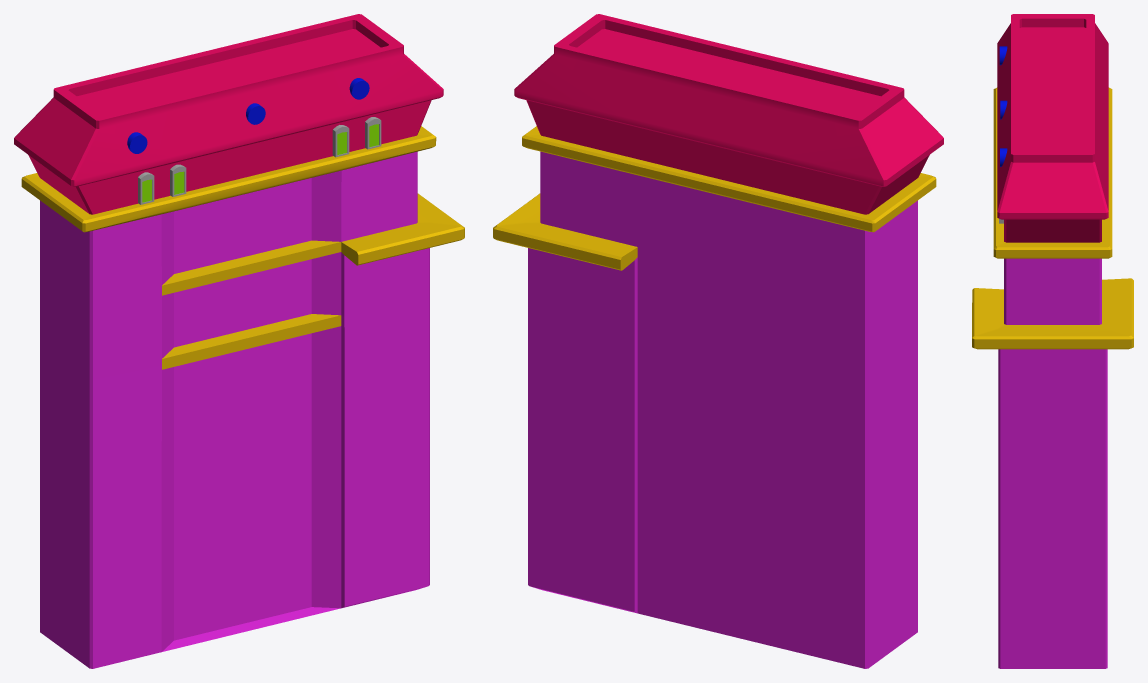
Rendered from LuigisMansion.fbx.
3 renders of one model, left to right at view 1: azimuth 30°, elevation 25°; view 2: azimuth 150°, elevation 25°; view 3: azimuth 270°, elevation 25°, orthographic. The views are drawn at different scales.
Parts seen in each view (by area): view 1: building; view 2: building; view 3: building.
Boxes of the visible parts, left/top/right/bottom form: building: left=14, top=14, right=464, bottom=668; building: left=493, top=14, right=943, bottom=668; building: left=972, top=14, right=1133, bottom=668.
Bounding box in the file's own units: 10.48 × 14.3 × 4.12.
